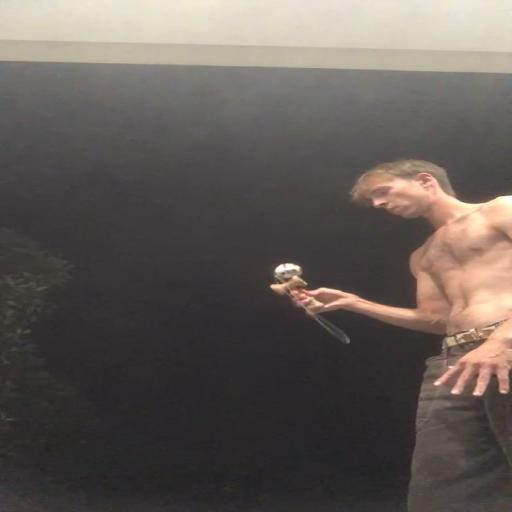kendama_ball: (273, 263, 303, 280)
